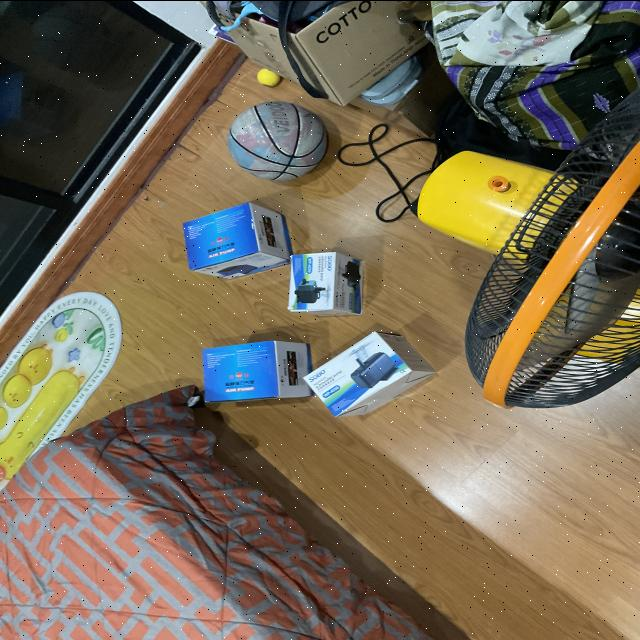SOBO_WP_4200: (300, 322, 428, 422), (271, 238, 375, 320)
YAMANO_LPP_20: (172, 197, 294, 286), (195, 335, 311, 403)
